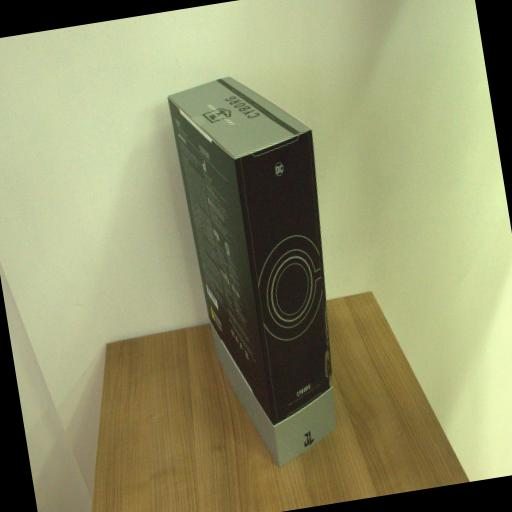Cyborg: (166, 64, 360, 474)
